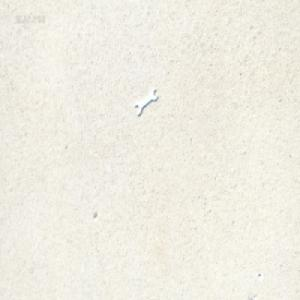Wrench: (134, 88, 158, 117)
